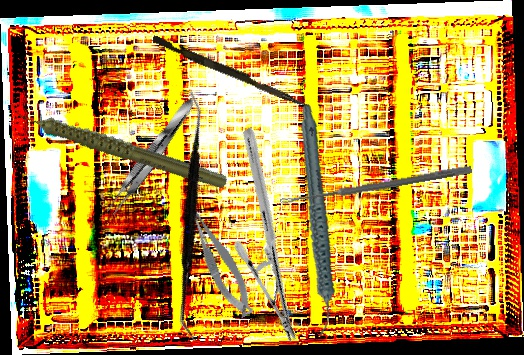Handpiece: (5, 57, 233, 232), (269, 103, 361, 338)
Micro Scissor: (180, 191, 258, 323)
Needle Holder: (165, 126, 375, 344)
Pusher: (150, 35, 314, 110)
Spatula Surgical: (83, 88, 302, 344)
Surgical Spoon: (279, 164, 473, 207)
Tissue Forceps: (102, 93, 201, 220)
